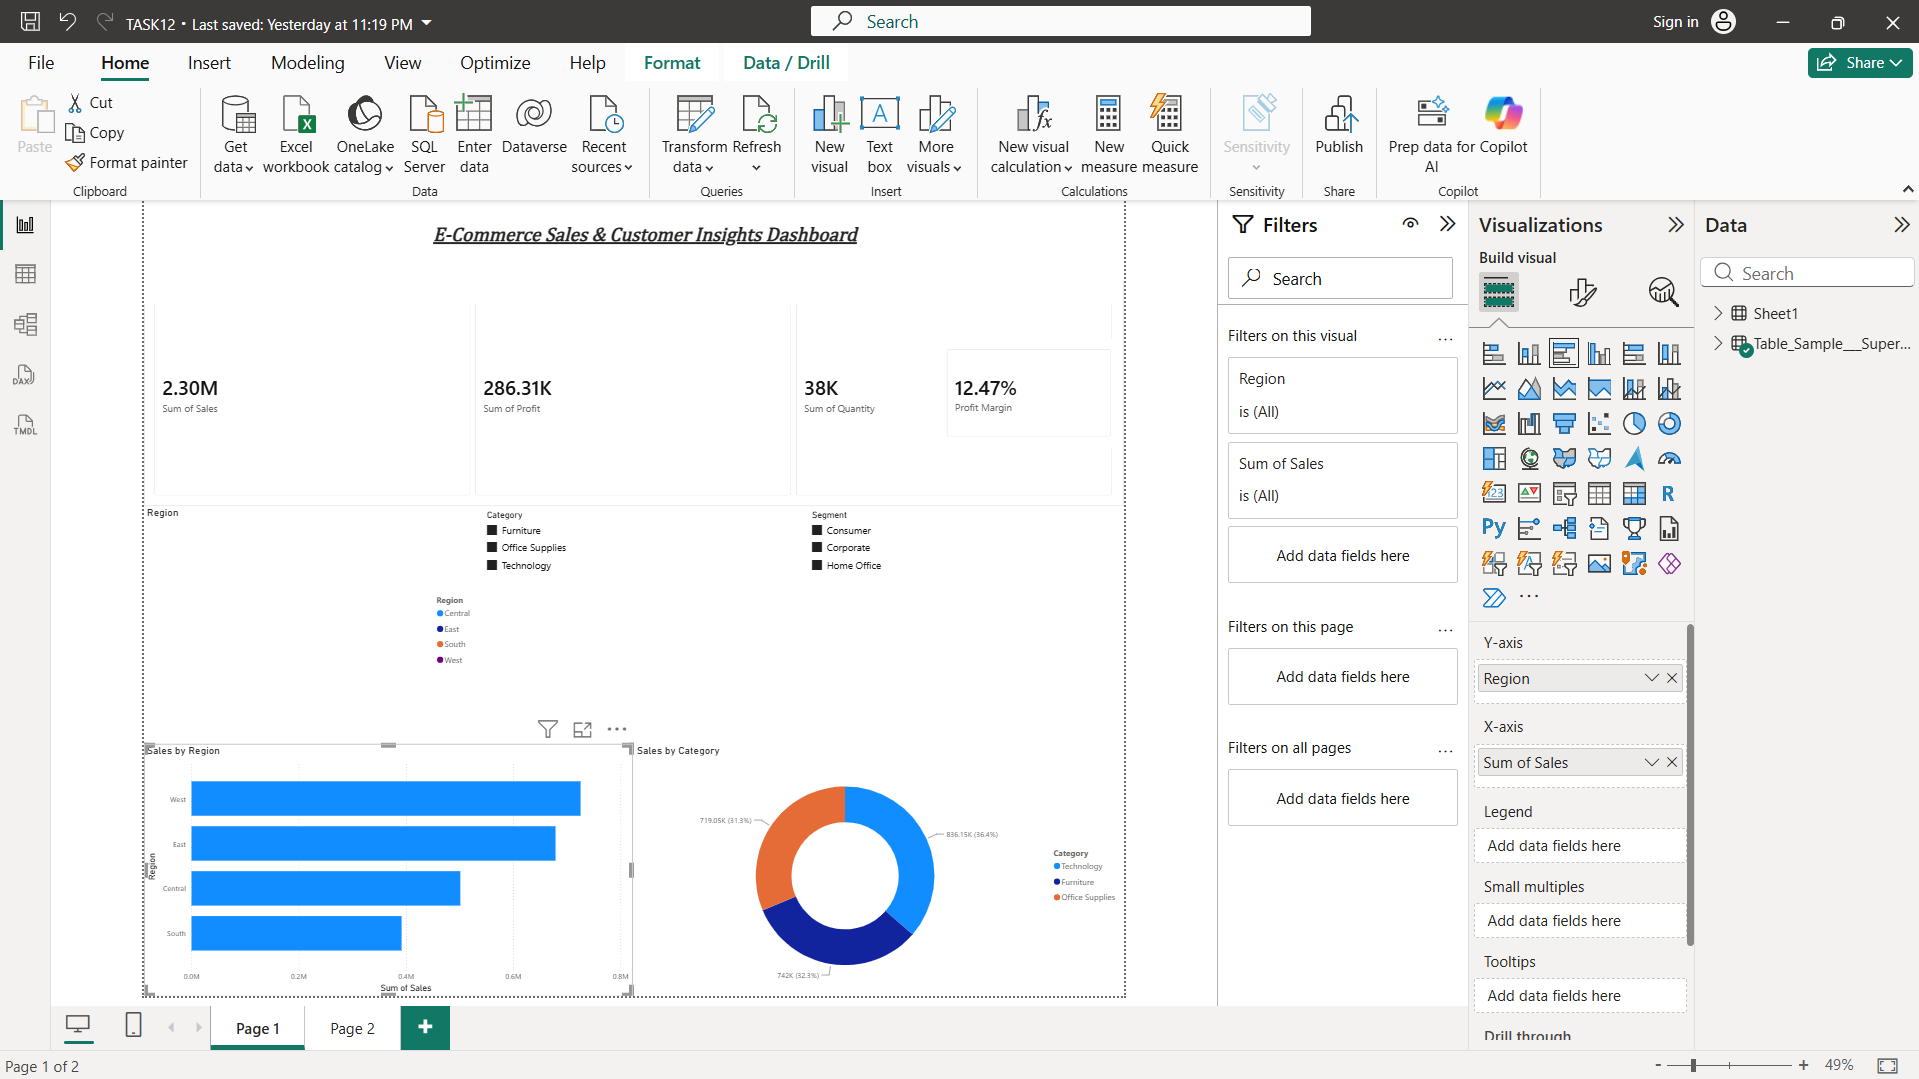

What the dashboard file says about the page in this screenshot:
{"tool":"powerbi","page":{"name":"Page 1","canvas":[1600,1300],"ordinal":0},"visuals":[{"type":"cardVisual","fields":{"Data":["Sum(Sheet1.Sales)","Sum(Sheet1.Profit)","Sum(Sheet1.Quantity)"]},"box":[0,132.5,1600,367.5],"z":0},{"type":"donutChart","fields":{"Category":["Table_Sample___Superstore_Orders_ od.Region"]},"box":[0,500,547.5,387.5],"z":1000},{"type":"donutChart","title":" Sales by Category","fields":{"Category":["Sheet1.Category"],"Y":["Sum(Sheet1.Sales)"]},"box":[800.3,888,800,412.5],"z":2000},{"type":"clusteredBarChart","title":" Sales by Region","fields":{"Category":["Table_Sample___Superstore_Orders_ od.Region"],"Y":["Sum(Table_Sample___Superstore_Orders_ od.Sales)"]},"box":[0,888,797.5,412.5],"z":3000},{"type":"slicer","fields":{"Values":["Table_Sample___Superstore_Orders_ od.Segment"]},"box":[1077.5,500,522.5,387.5],"z":4000},{"type":"textbox","box":[0,0,1596.7,170],"z":5000},{"type":"cardVisual","fields":{"Data":["Sheet1.Profit Margin"]},"box":[1295,227.5,302.5,177.5],"z":6000},{"type":"slicer","fields":{"Values":["Table_Sample___Superstore_Orders_ od.Category"]},"box":[547.5,500,530,387.5],"z":7000}]}

Visuals, with their boxes on the page's 1600x1300 design canvas (x1, y1, x2, y2). These are canvas units, not pixel positions in the 1919x1079 screenshot, which may show the page scaled, cropped or inside an application window:
cardVisual - Sum(Sheet1.Sales) x Sum(Sheet1.Profit): bbox(0, 132, 1600, 500)
donutChart - Table_Sample___Superstore_Orders_ od.Region: bbox(0, 500, 548, 888)
" Sales by Category" donutChart: bbox(800, 888, 1600, 1300)
" Sales by Region" clusteredBarChart: bbox(0, 888, 798, 1300)
slicer - Table_Sample___Superstore_Orders_ od.Segment: bbox(1078, 500, 1600, 888)
textbox: bbox(0, 0, 1597, 170)
cardVisual - Sheet1.Profit Margin: bbox(1295, 228, 1598, 405)
slicer - Table_Sample___Superstore_Orders_ od.Category: bbox(548, 500, 1078, 888)
